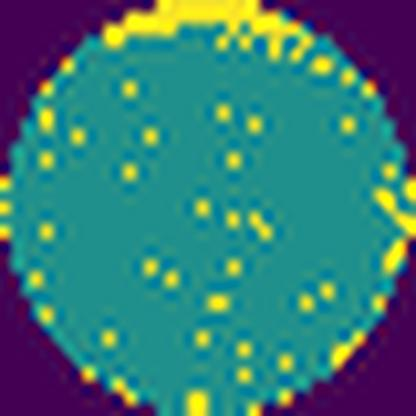Edge-Loc: (100, 0, 319, 66)
